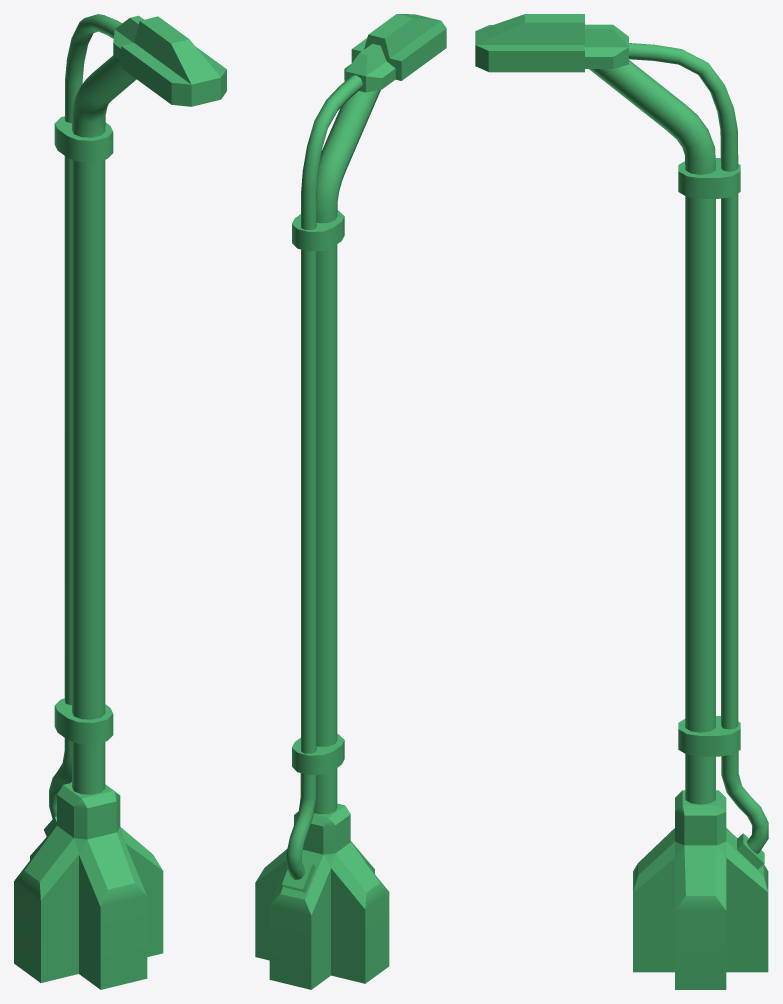
File: mesh_Streetlamp_v2.fbx
3 renders of one model, left to right at view 1: azimuth 30°, elevation 25°; view 2: azimuth 150°, elevation 25°; view 3: azimuth 270°, elevation 25°, orthographic. The views are drawn at different scales.
Visible parts, largest first — view 1: mesh_Streetlamp_v2_0; view 2: mesh_Streetlamp_v2_0; view 3: mesh_Streetlamp_v2_0.
Part boxes in pixels (x1,y1,x2,y2): mesh_Streetlamp_v2_0: (14,14,226,989); mesh_Streetlamp_v2_0: (255,14,446,989); mesh_Streetlamp_v2_0: (475,14,768,989).
Size of the model in its own units: 44.86 by 345 by 97.25.
